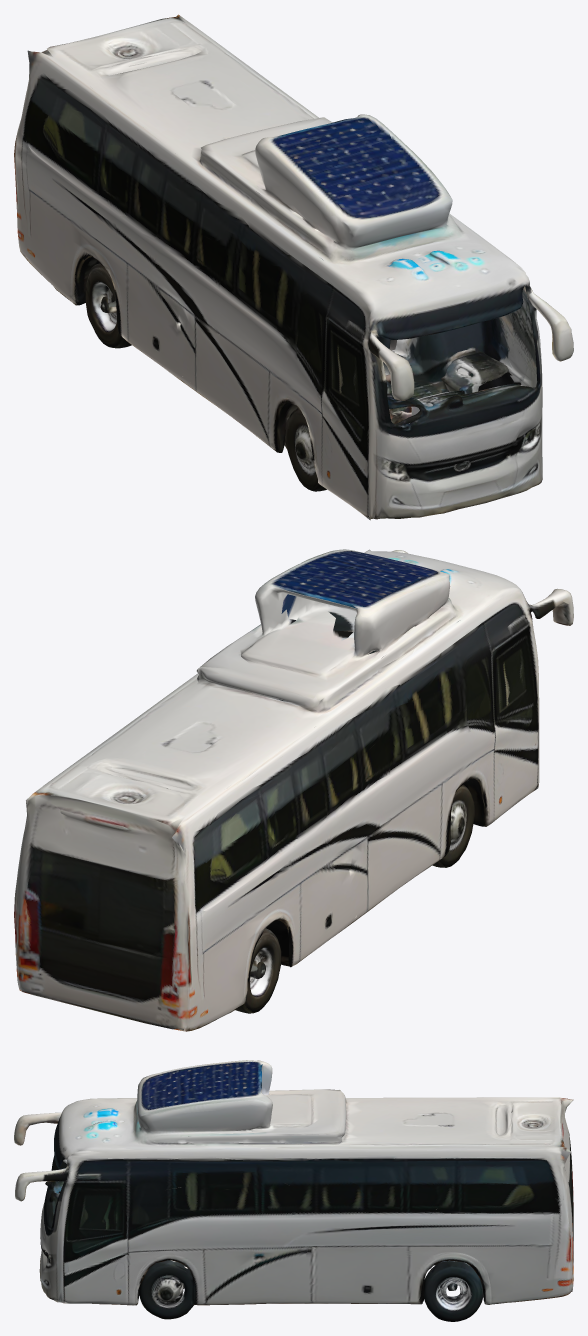
Rendered from sample02.glb.
3 renders of one model, top to bottom at view 1: azimuth 30°, elevation 25°; view 2: azimuth 150°, elevation 25°; view 3: azimuth 270°, elevation 25°, orthographic. The views are drawn at different scales.
Parts seen in each view (by area): view 1: geometry_0; view 2: geometry_0; view 3: geometry_0.
Part boxes in pixels (<box>): geometry_0: <box>14,14,573,520</box>; geometry_0: <box>14,549,573,1031</box>; geometry_0: <box>14,1060,573,1321</box>.
Bounding box in the file's own units: 0.5023 × 0.7983 × 1.88.
1 material, 1 textured.
